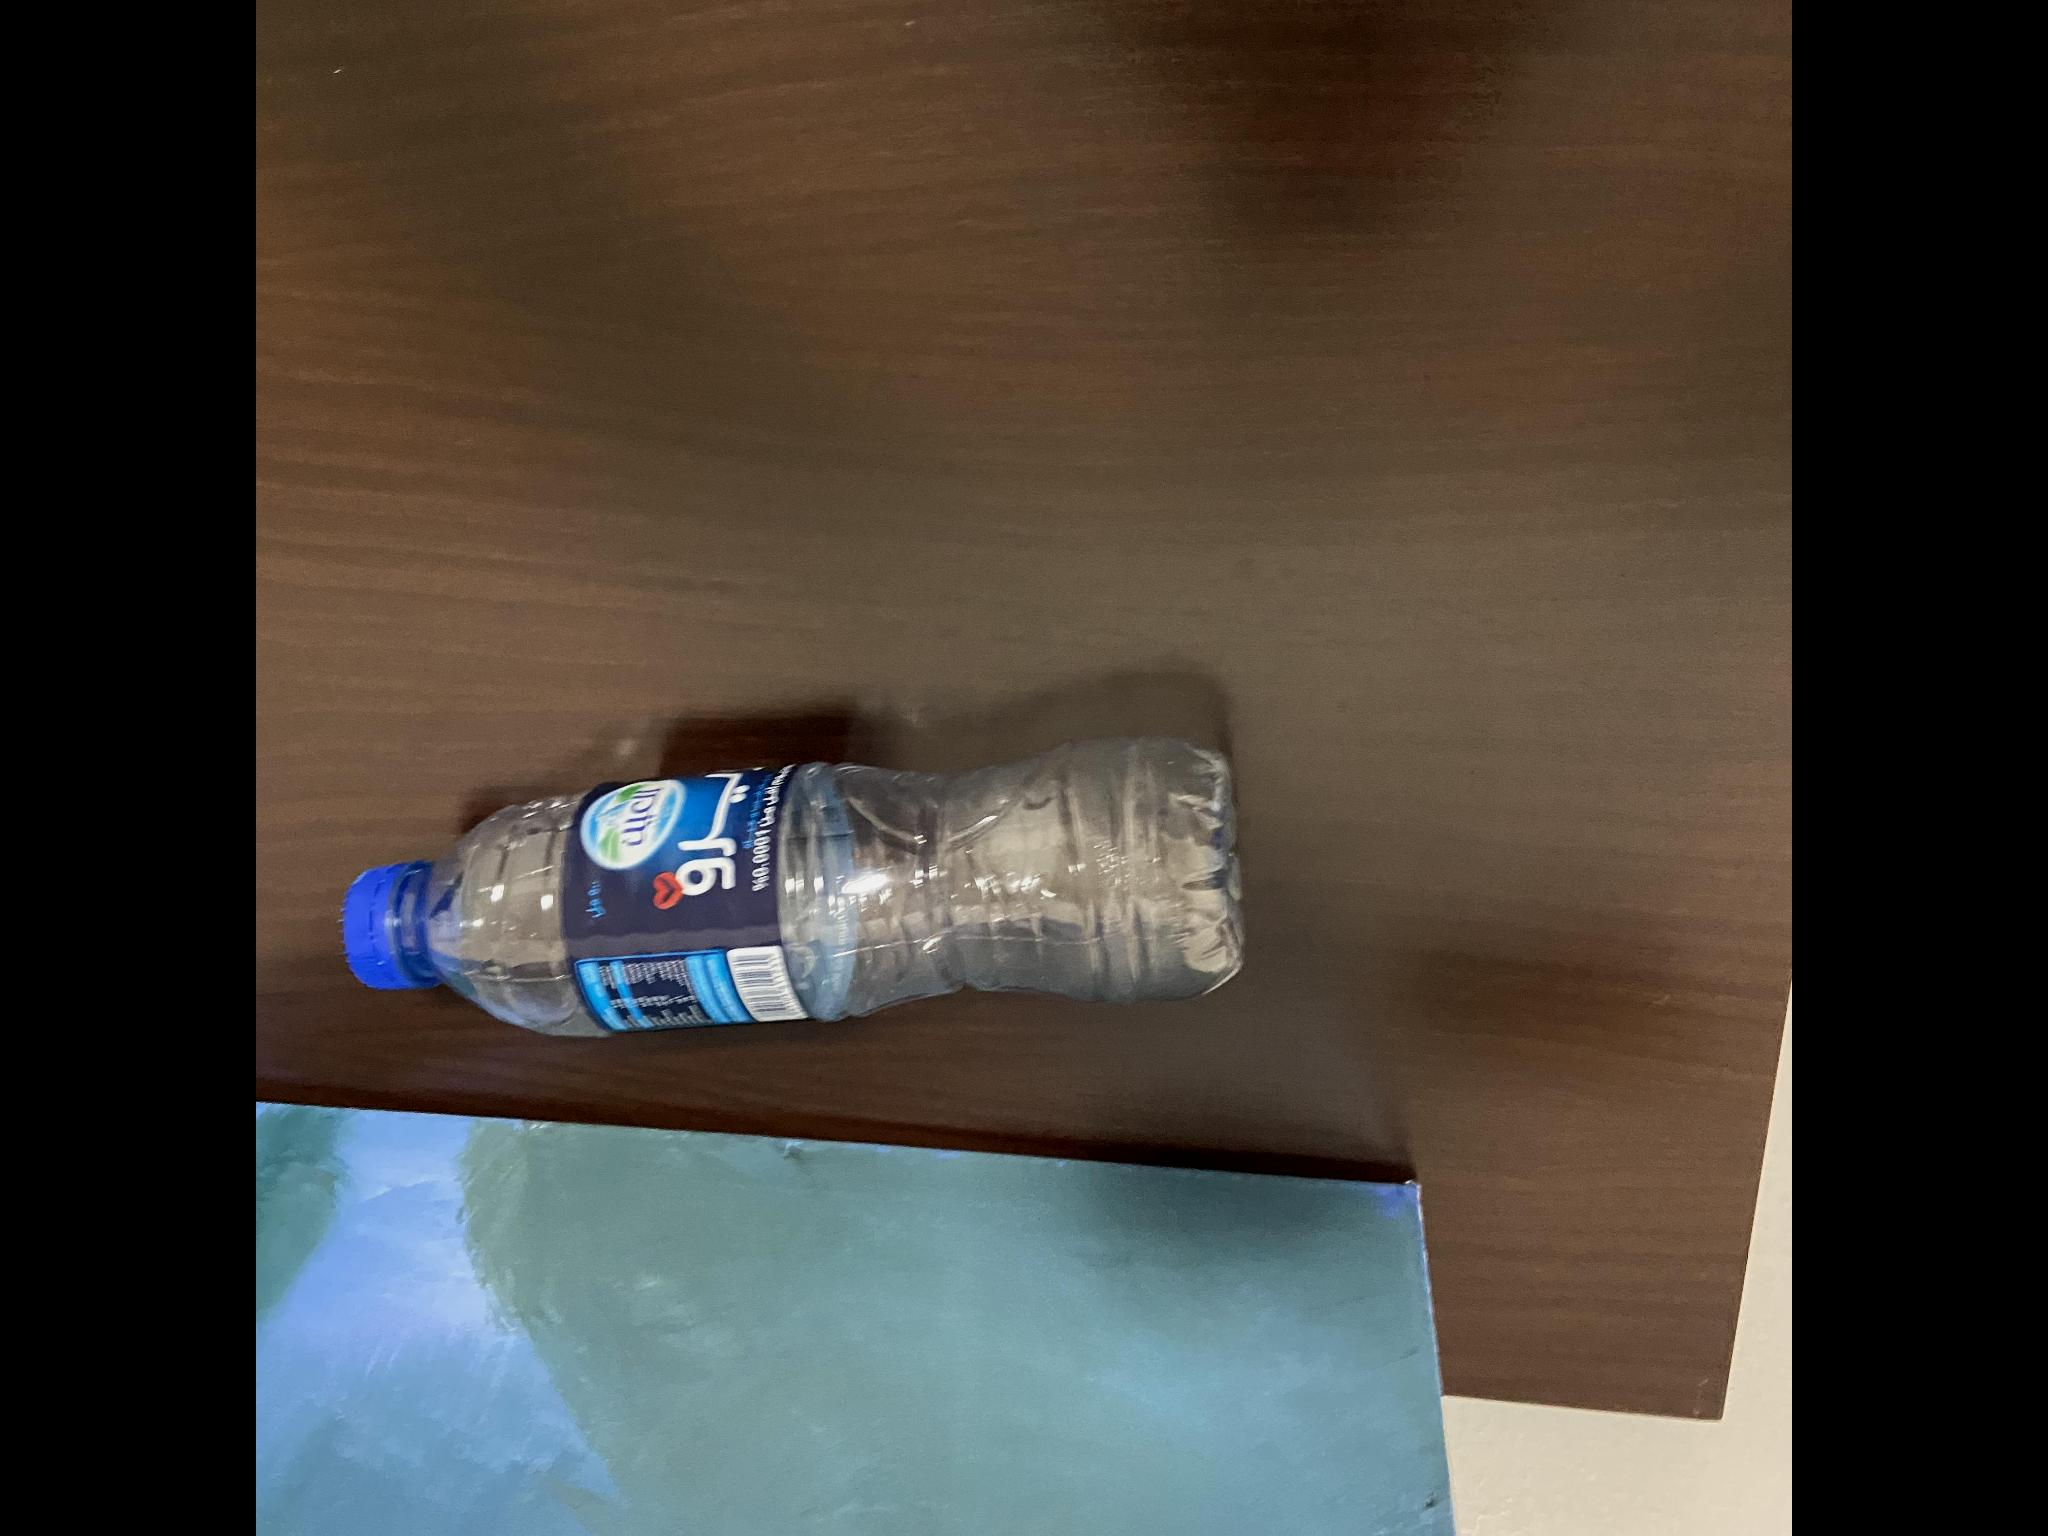bottle: (318, 712, 1266, 1091)
